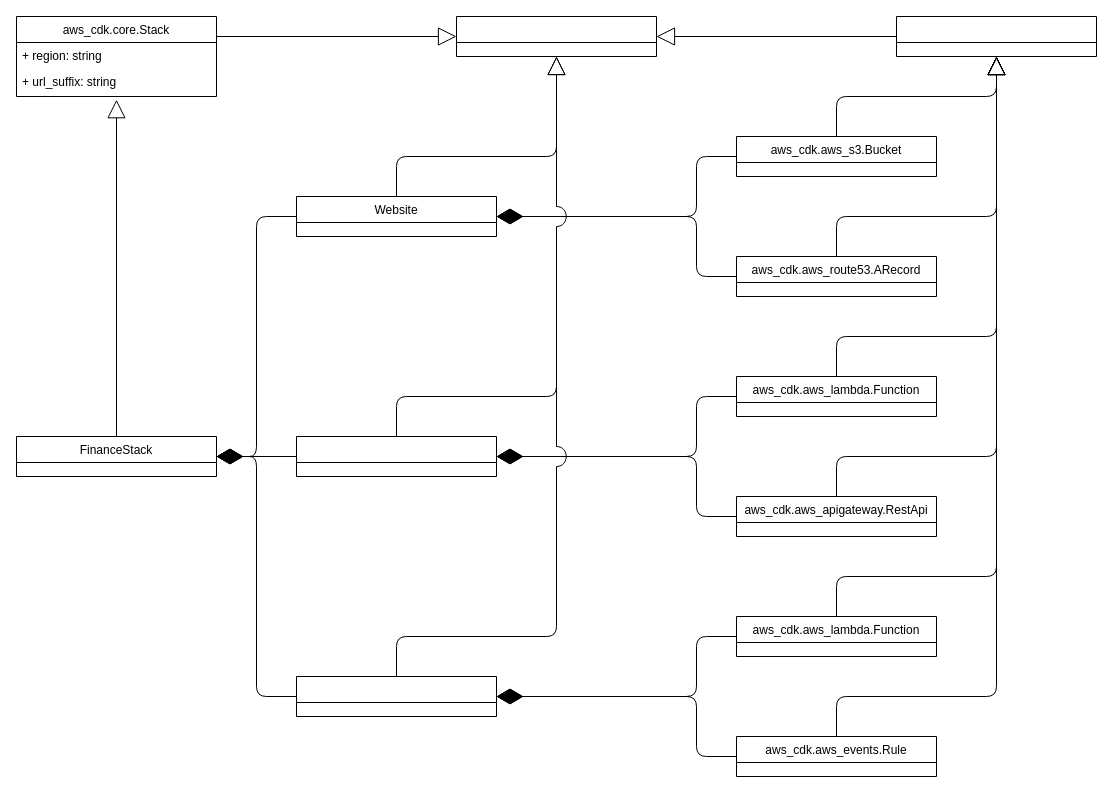
The diagram is 1113 pixels wide and 793 high, and some of its shapes have lost their labels. Here are the shapes that lost their labels. From the top down, the box of each, then its label:
(456, 16, 656, 56): aws_cdk.core.Construct
(896, 16, 1096, 56): aws_cdk.core.Resource
(296, 436, 496, 476): RestApi
(296, 676, 496, 716): Importer
